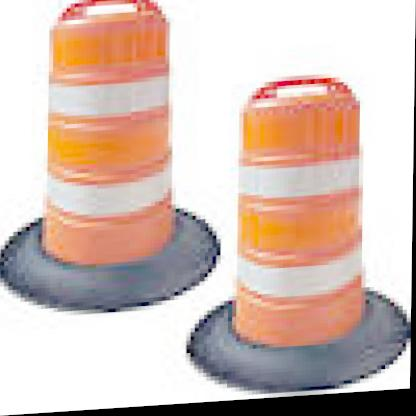obstacle: (212, 83, 386, 363), (30, 10, 191, 273)
